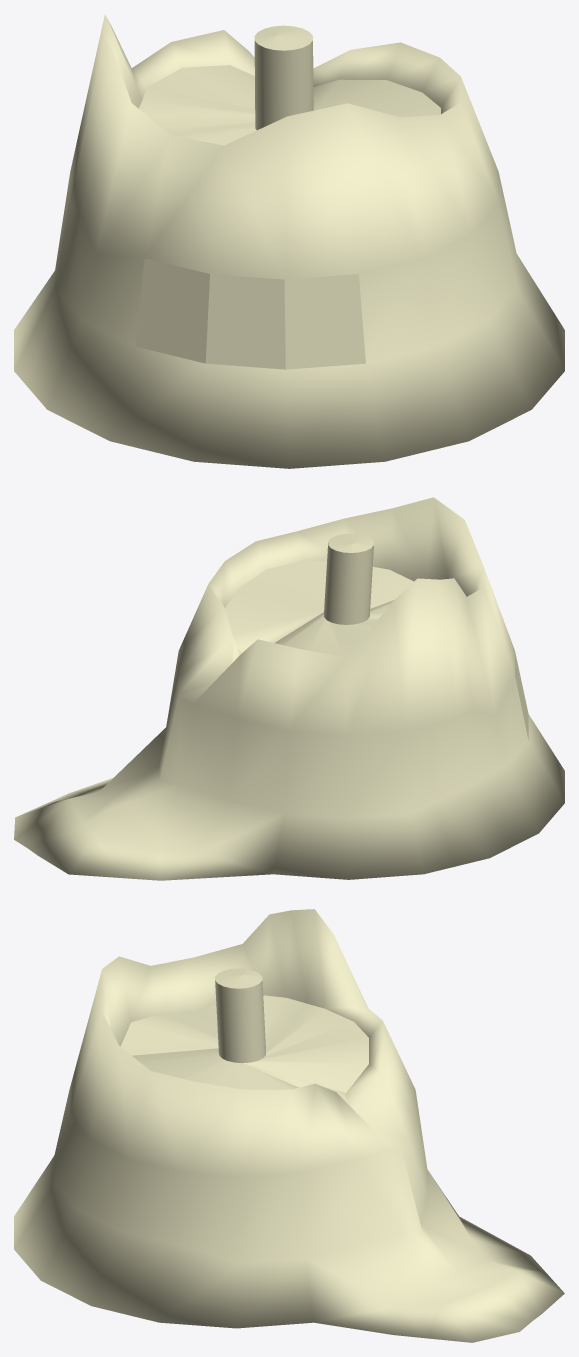
The model's file is Candle_Medium_SM.FBX.
The picture shows the model from 3 angles, top to bottom: view 1: azimuth 30°, elevation 25°; view 2: azimuth 150°, elevation 25°; view 3: azimuth 270°, elevation 25°; orthographic projection. The views are drawn at different scales.
Parts seen in each view (by area): view 1: Cylinder001; view 2: Cylinder001; view 3: Cylinder001.
Part boxes in pixels (bbox=[...]): Cylinder001: bbox=[14, 14, 564, 468]; Cylinder001: bbox=[14, 497, 564, 880]; Cylinder001: bbox=[14, 909, 564, 1342].
Bounding box in the file's own units: 44.79 × 27.46 × 50.75.
